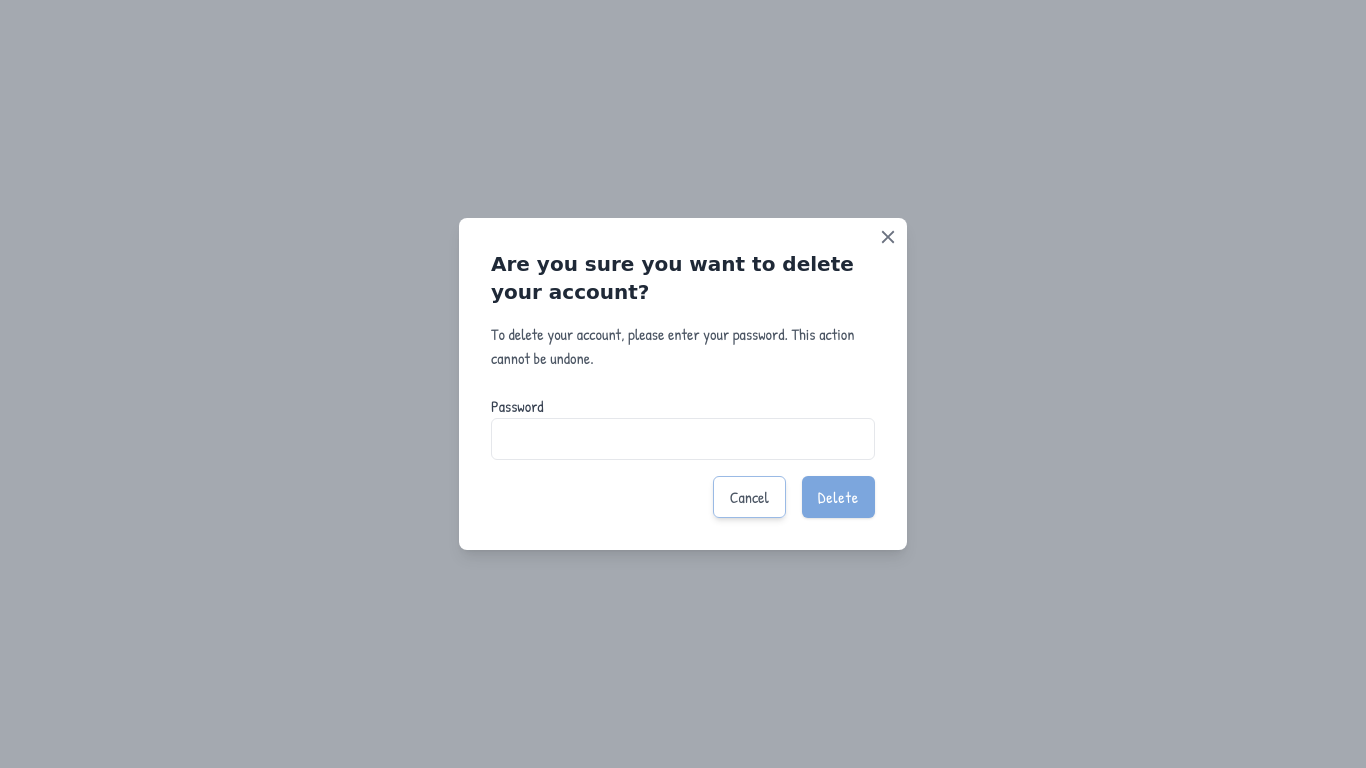
Test: AccountDeleteModal Component › displays error message when delete fails
In the password field labelled "Password": (683, 439) [491,418,875,460], type "testpassword"
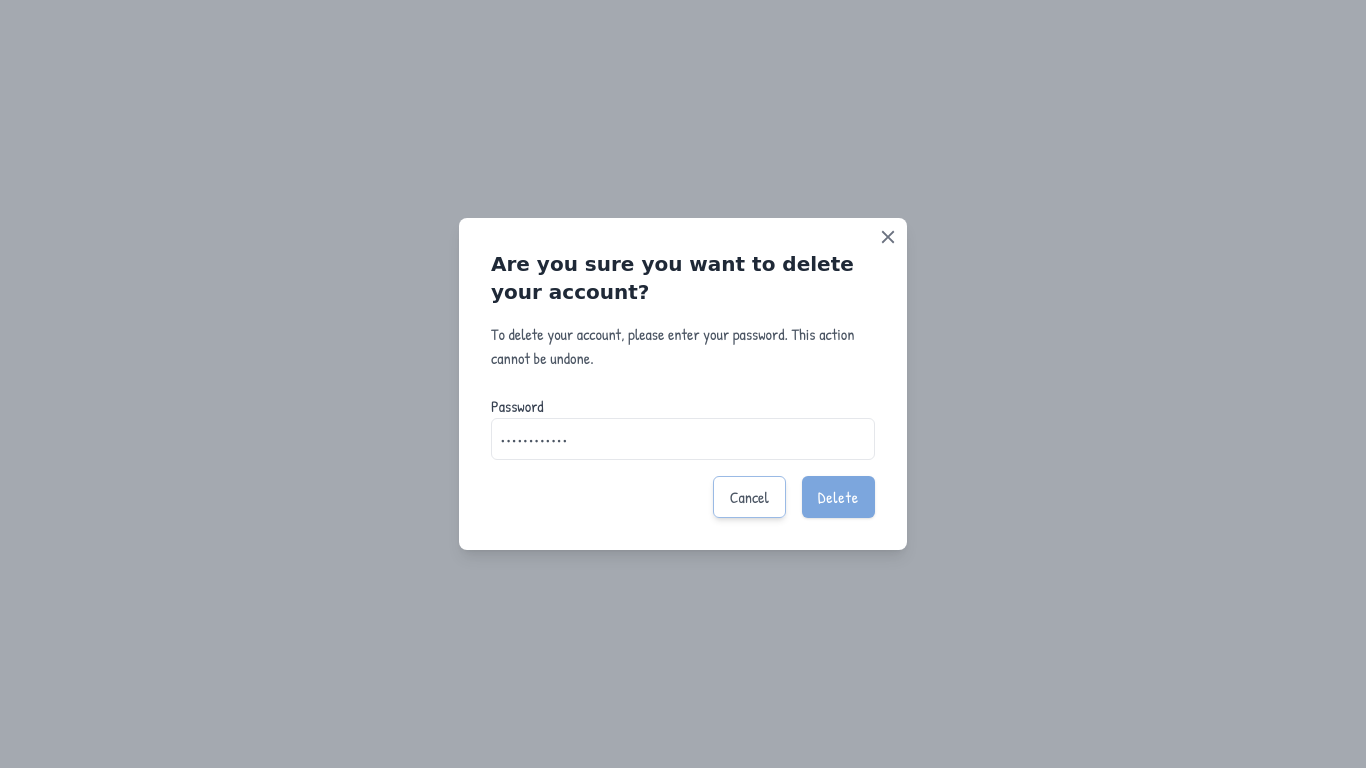
Click the button "Delete": (838, 497) [802,476,875,518]
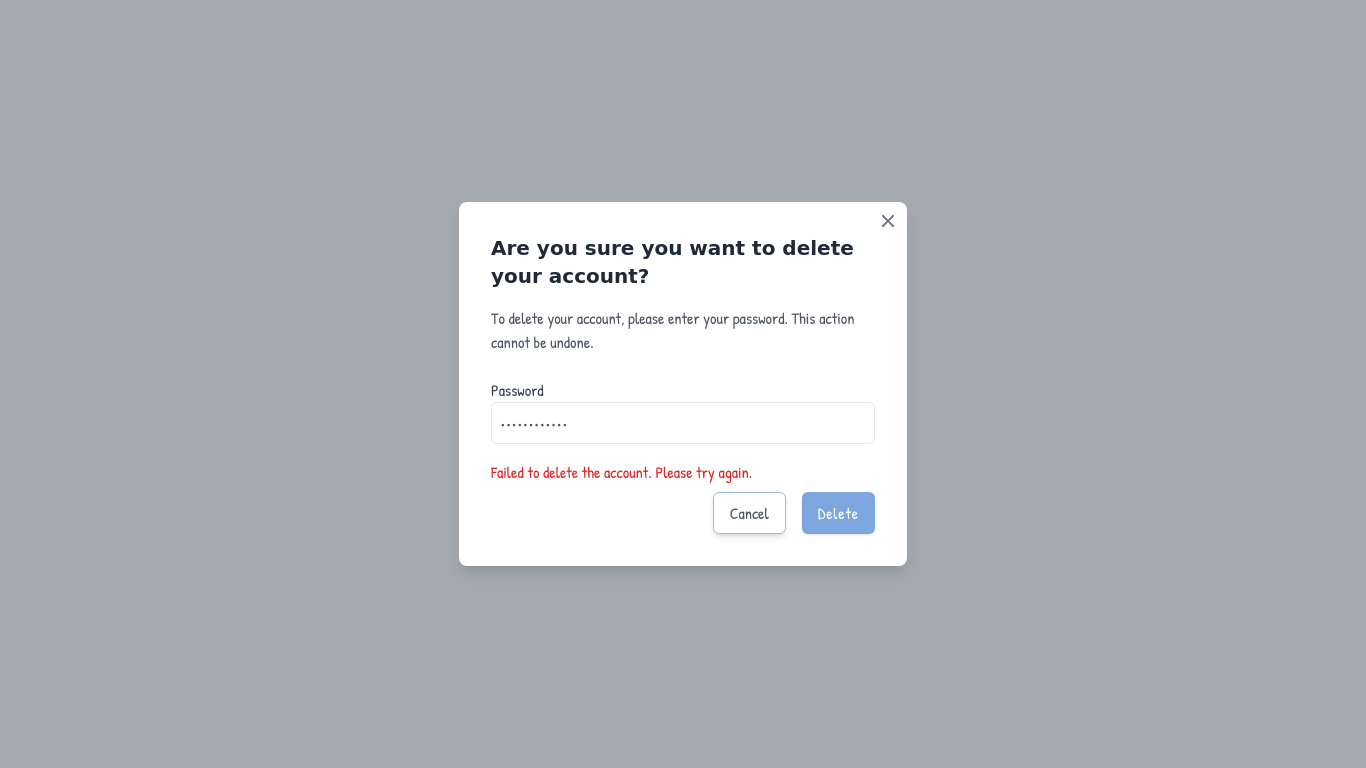
Now the text "Failed to delete the account. Please try again." is shown, box [491,461,752,483]
